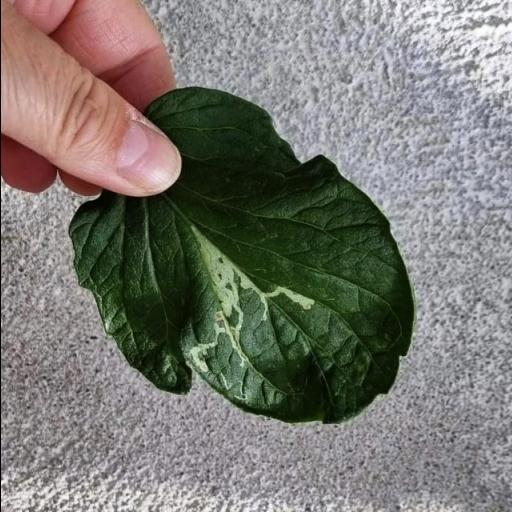disease_tomato: (70, 86, 414, 426)
